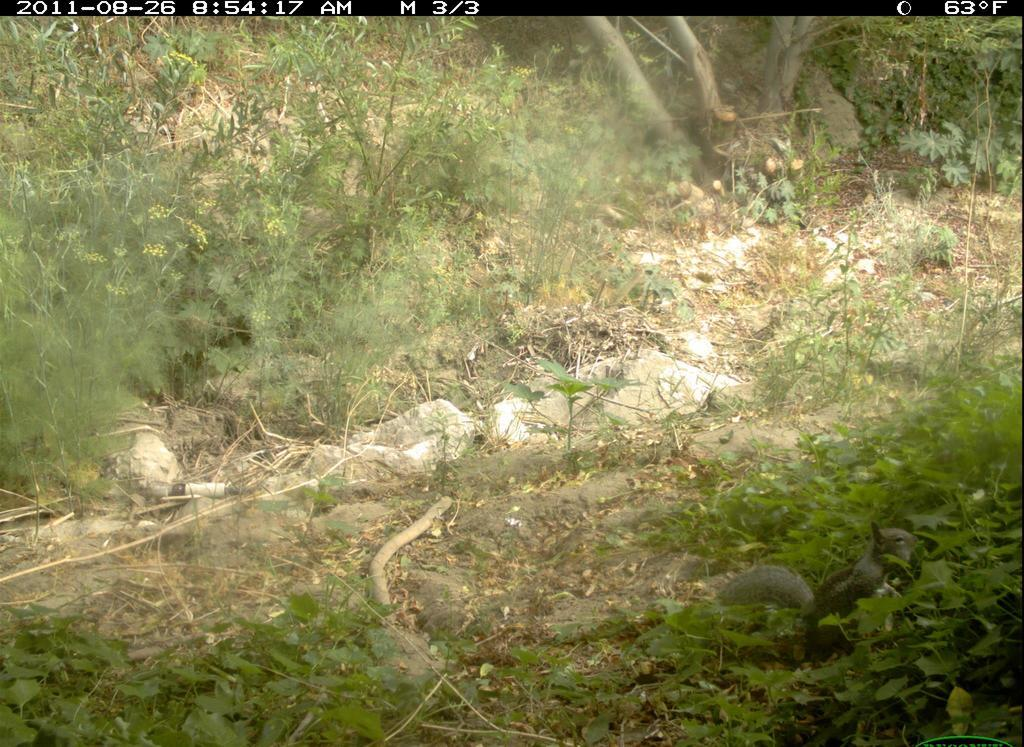squirrel: (705, 514, 951, 671)
